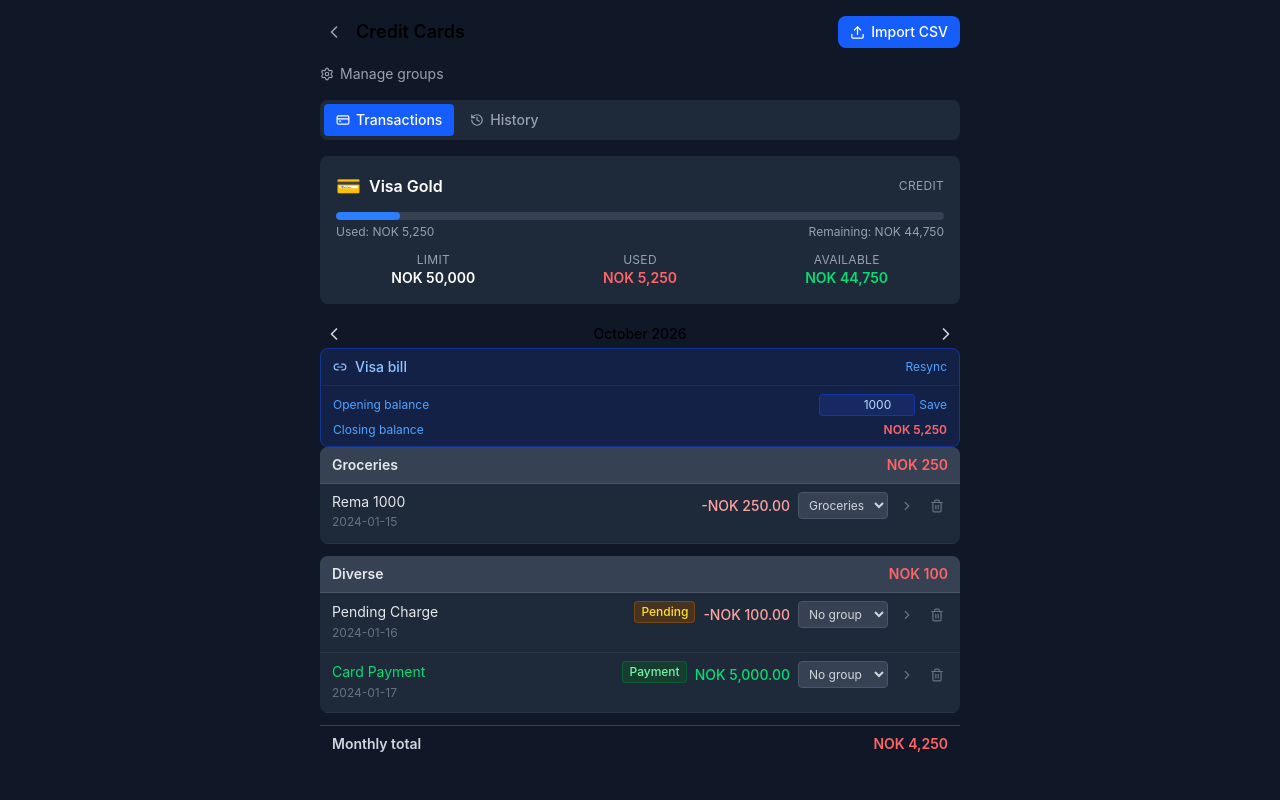
Test: BudgetCreditCards – delete transaction › cancel button closes the dialog without deleting
Expected: the text "Rema 1000" is shown, [332,493,405,510]
Click the button titled "Delete transaction" next to "-NOK 250.00" at (937, 506), box [926,494,948,516]
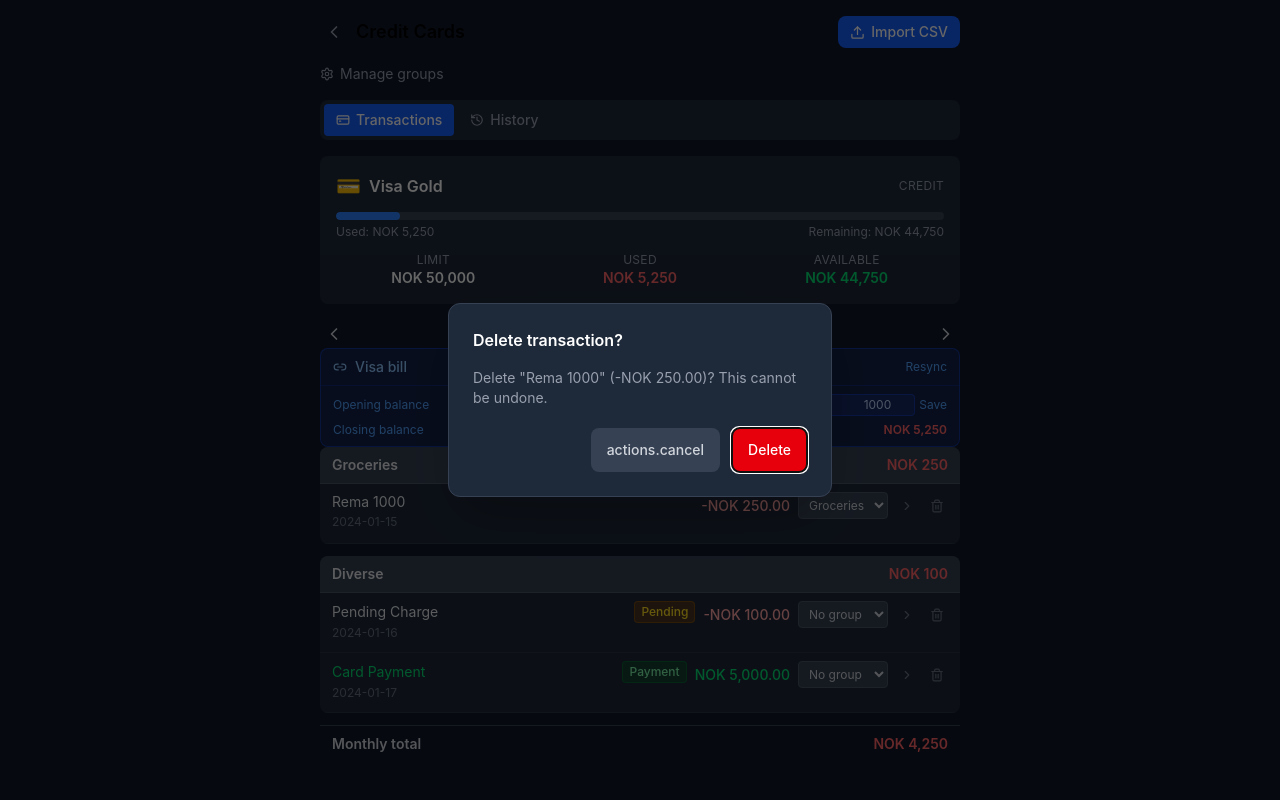
Now the dialog is shown
Click the button "actions.cancel" at (655, 450), box [591,428,720,472]
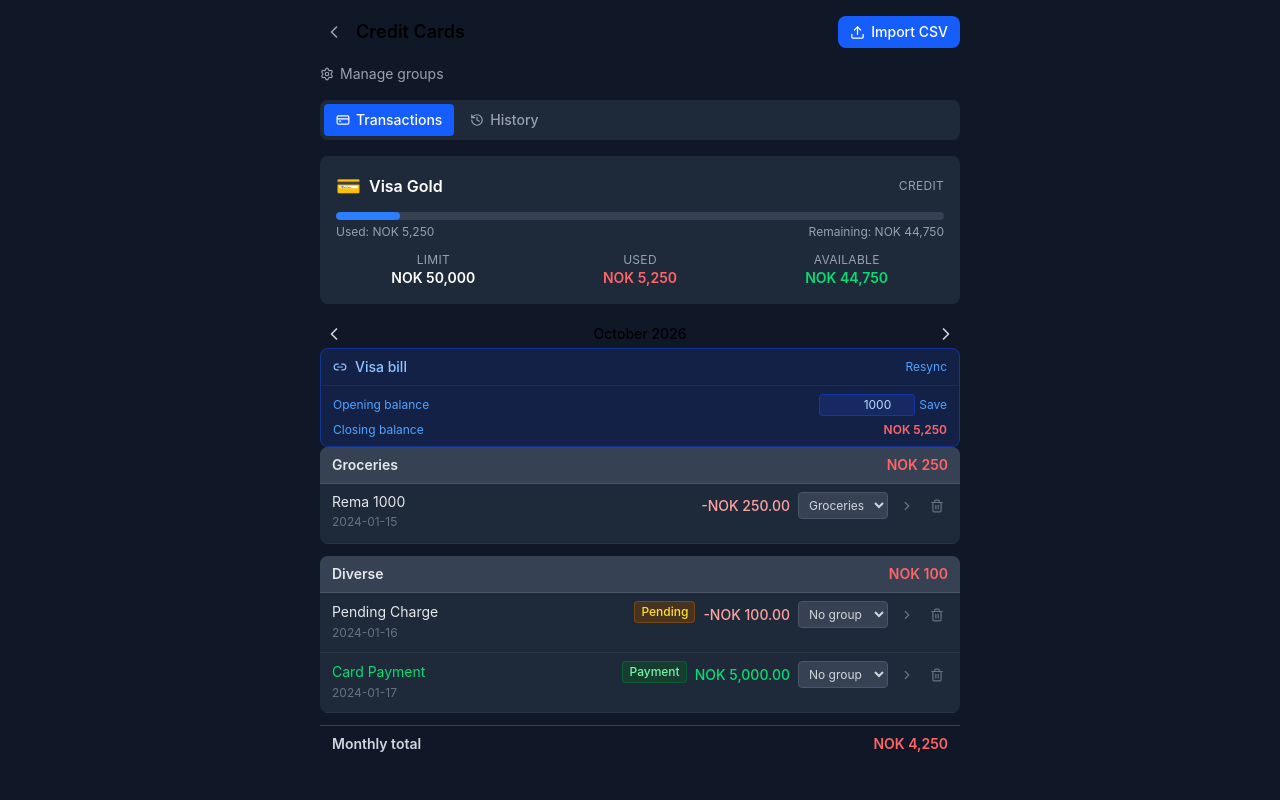
Expected: the text "Rema 1000" is shown, [332,493,405,510]
Now the dialog is gone
